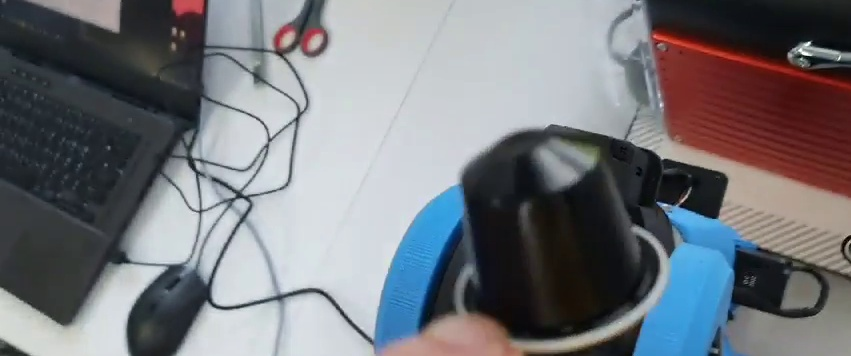capsule_10: (450, 127, 672, 352)
